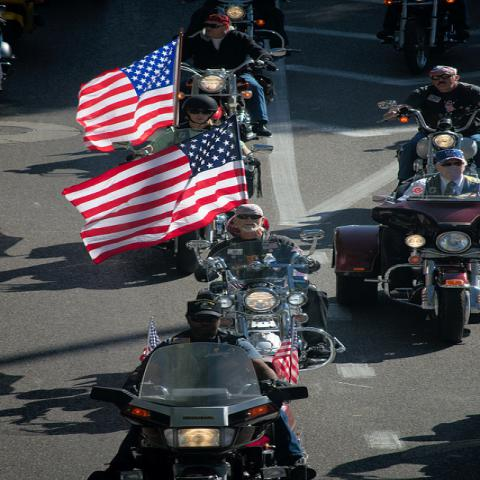motorcycle: (84, 341, 309, 474), (325, 188, 479, 349), (142, 130, 277, 254), (206, 247, 311, 384), (375, 100, 479, 184), (180, 62, 278, 114), (214, 0, 284, 53), (184, 216, 232, 279)
